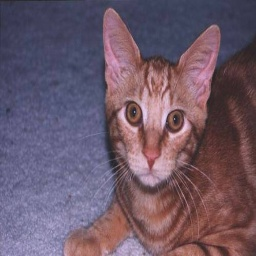cat: (73, 10, 256, 256)
